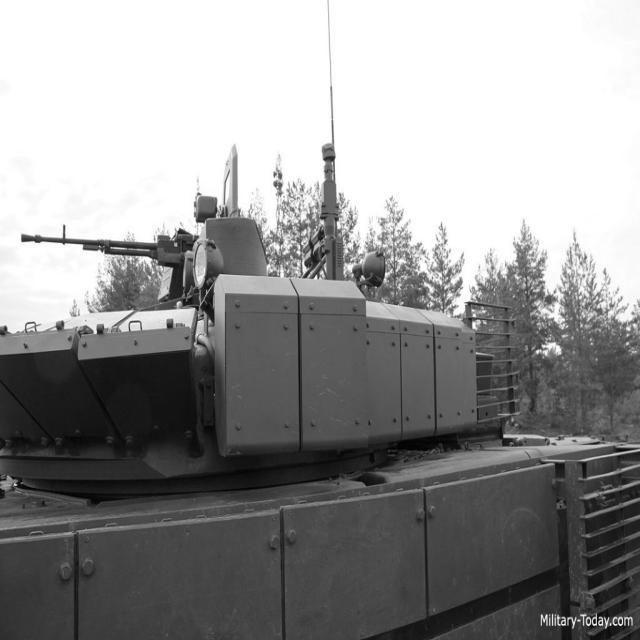Tank: (2, 136, 640, 640)
